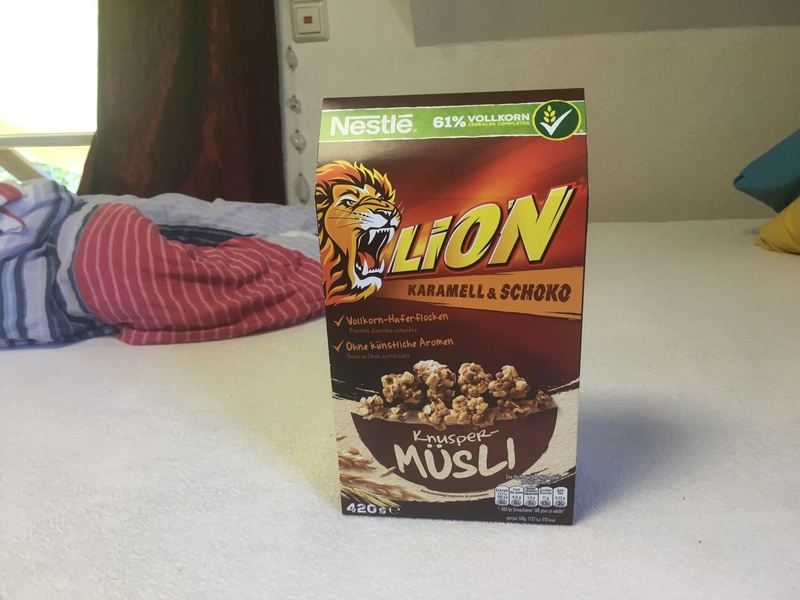cereals: (316, 87, 588, 527)
